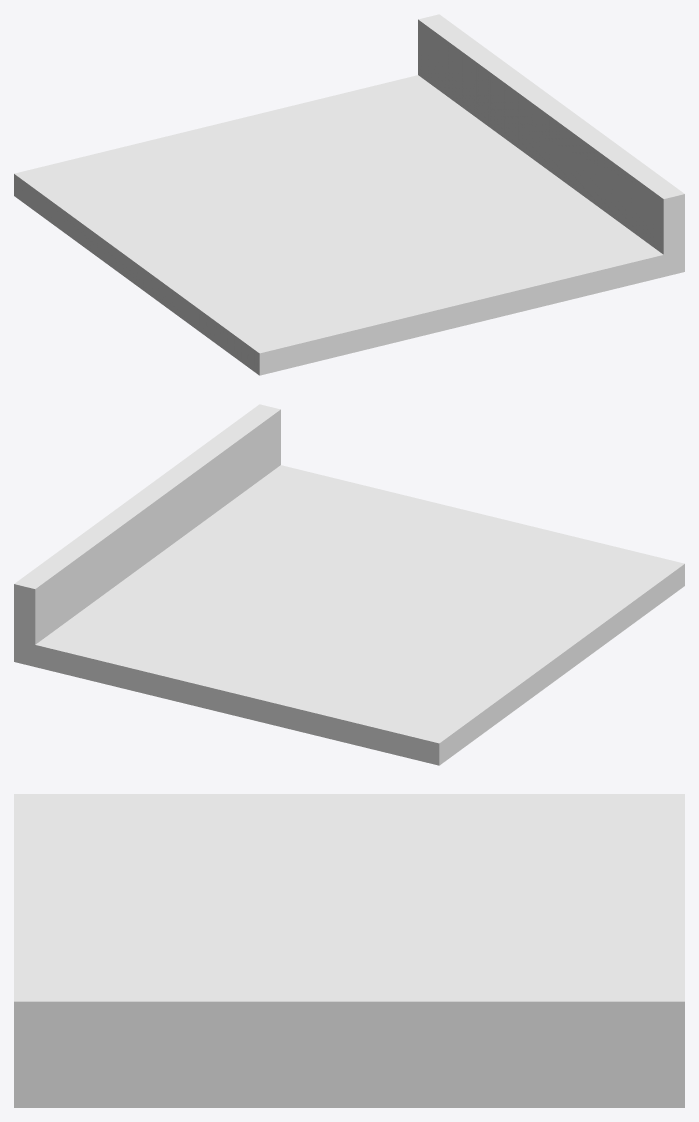
File: WhiteRoof_1Edge.glb
The picture shows the model from 3 angles, top to bottom: view 1: azimuth 30°, elevation 25°; view 2: azimuth 150°, elevation 25°; view 3: azimuth 270°, elevation 25°; orthographic projection. The views are drawn at different scales.
Visible parts, largest first — view 1: roof_flat_1Edge_white; view 2: roof_flat_1Edge_white; view 3: roof_flat_1Edge_white.
Part boxes in pixels (x1,y1,x2,y2): roof_flat_1Edge_white: (14,14,684,375); roof_flat_1Edge_white: (14,404,684,765); roof_flat_1Edge_white: (14,794,684,1107).
Size of what is drawn, in the model's own units: 4 by 0.7 by 4.
1 material, 1 textured.
